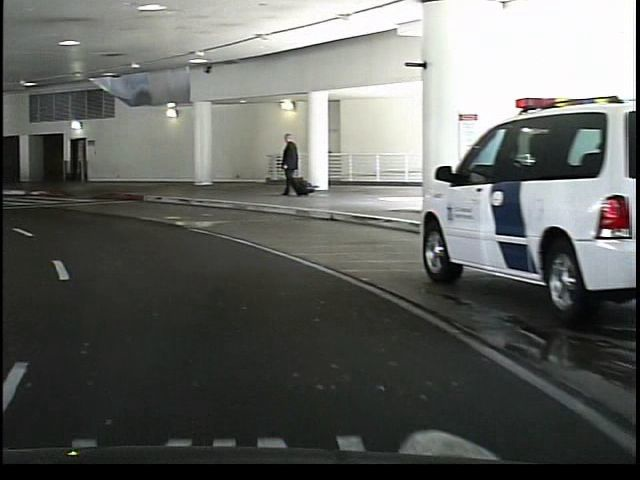person: (276, 128, 307, 202)
